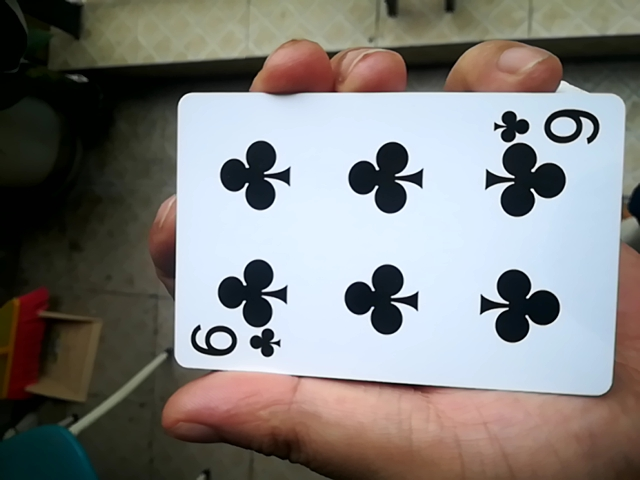mh 6: (152, 101, 623, 405)
